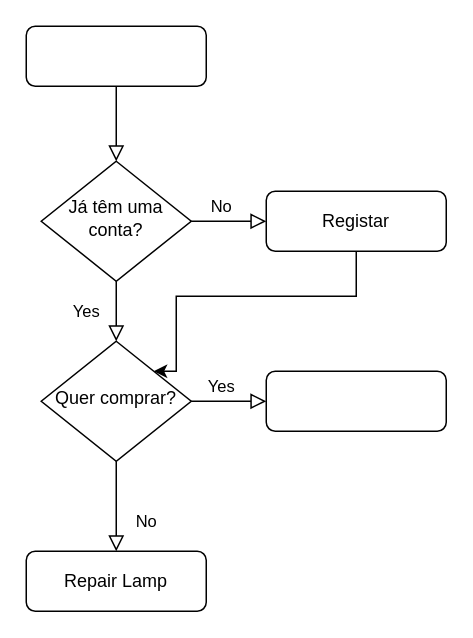
Some shapes in this 473 by 638 pixel diagram are drawn without their labels. The box of each missing label's shape, as (x1, y1, x2, y2) in pixels:
Login: (25, 25, 206, 86)
Têm algum método de pagamento?: (265, 370, 446, 431)
